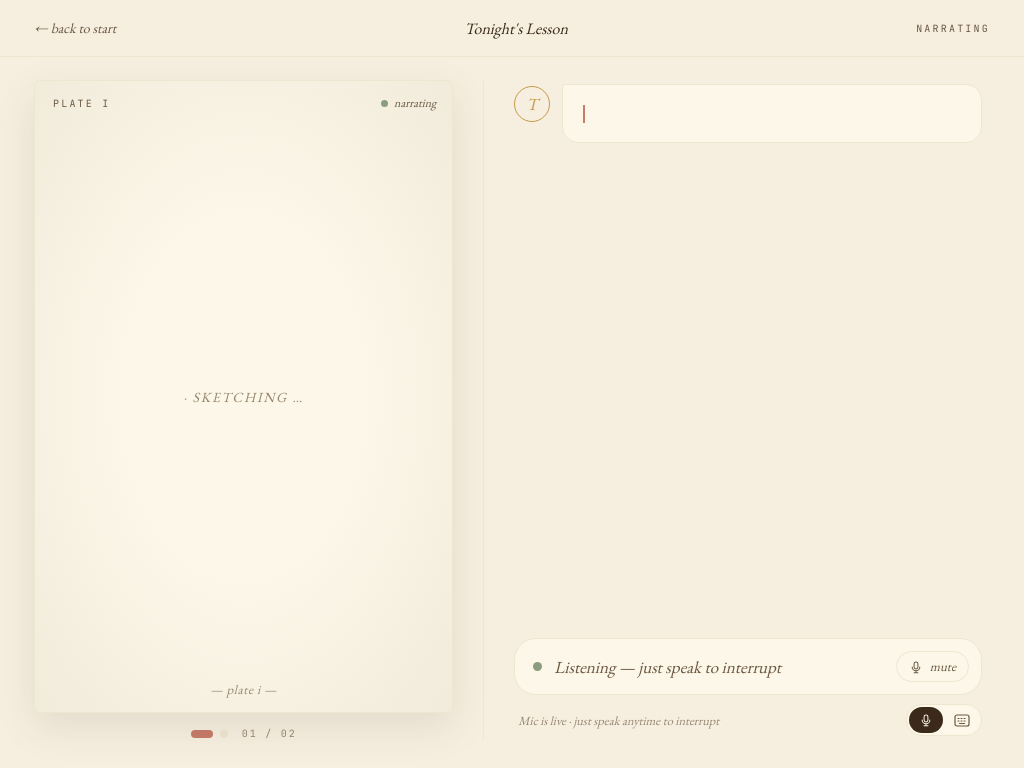
StoryScreen — voice/keyboard toggle (left=voice, right=keyboard) › clicking Voice switches back to voice mode
Click the button titled "Keyboard" at (962, 720), box top-left (945, 707), bottom-right (979, 733)
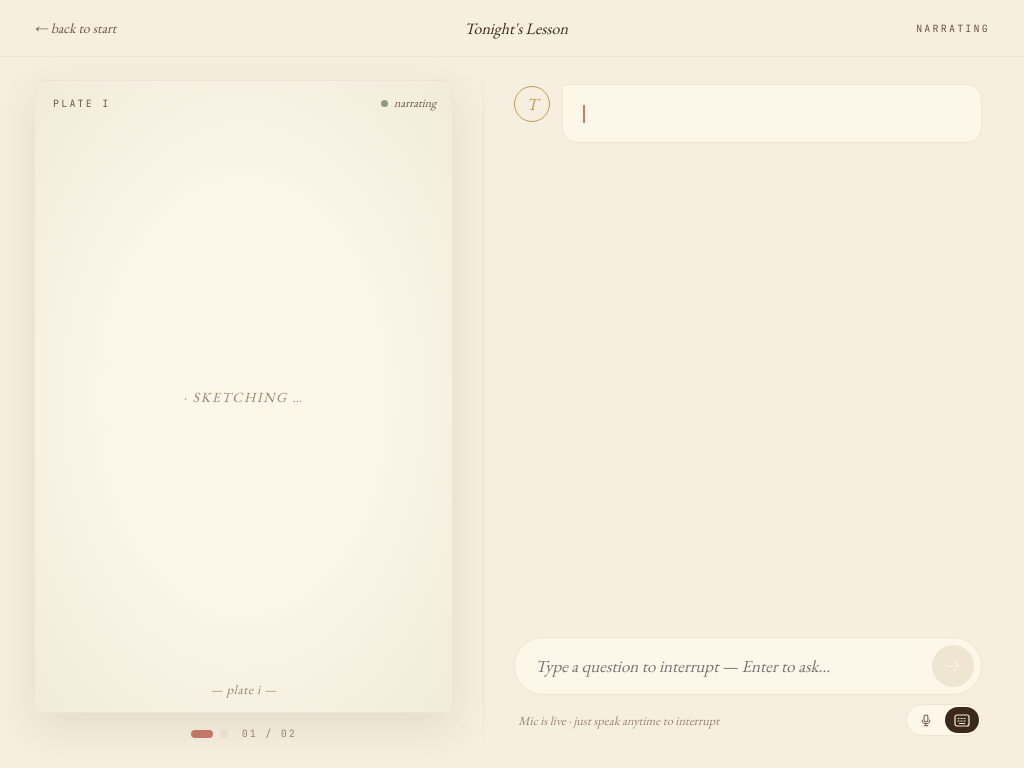
Result: the field is shown at top-left (533, 654), bottom-right (922, 678)
Click the button titled "Voice" at (926, 720), box top-left (909, 707), bottom-right (943, 733)
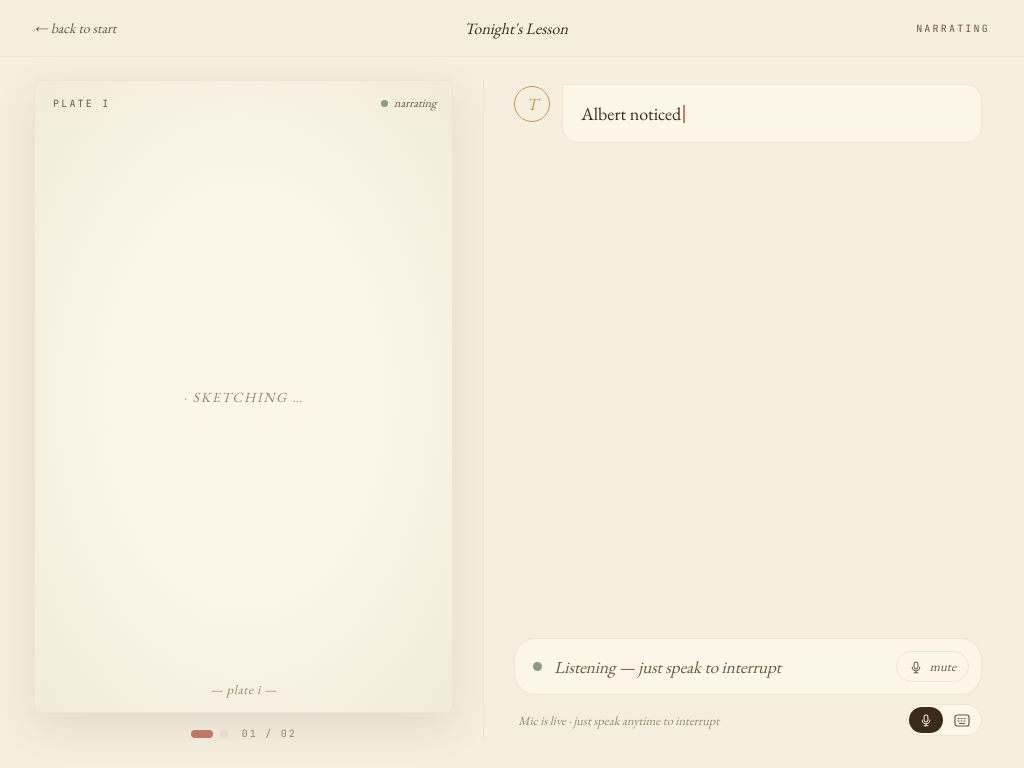
Result: the field is gone
Result: the text "Listening — just speak to interrupt" is shown at top-left (554, 656), bottom-right (781, 678)
